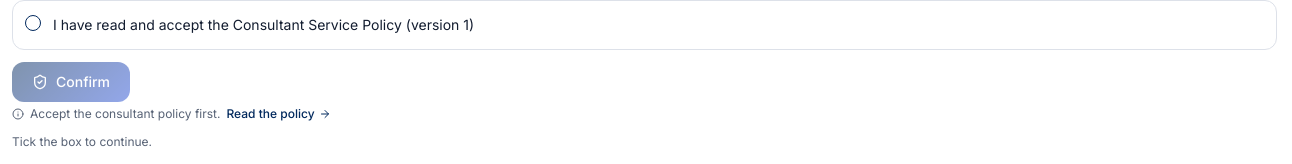
Test: required checkbox › shows a refusal next to the button and keeps the form usable
Click the checkbox: (33, 23) [25, 15, 41, 31]
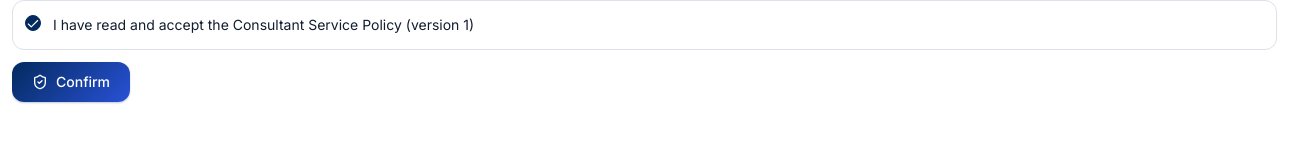
Click the button "Confirm": (71, 82) [12, 62, 130, 102]
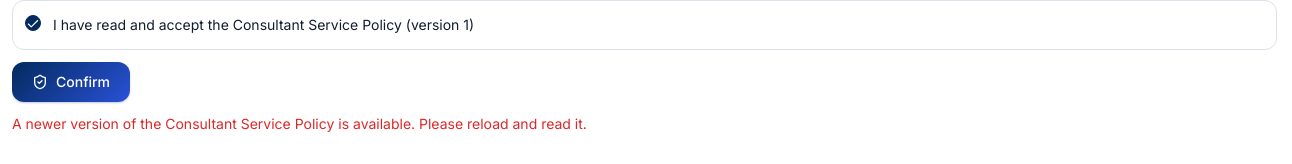
Expected: the message shows "A newer version", [12, 115, 587, 132]
